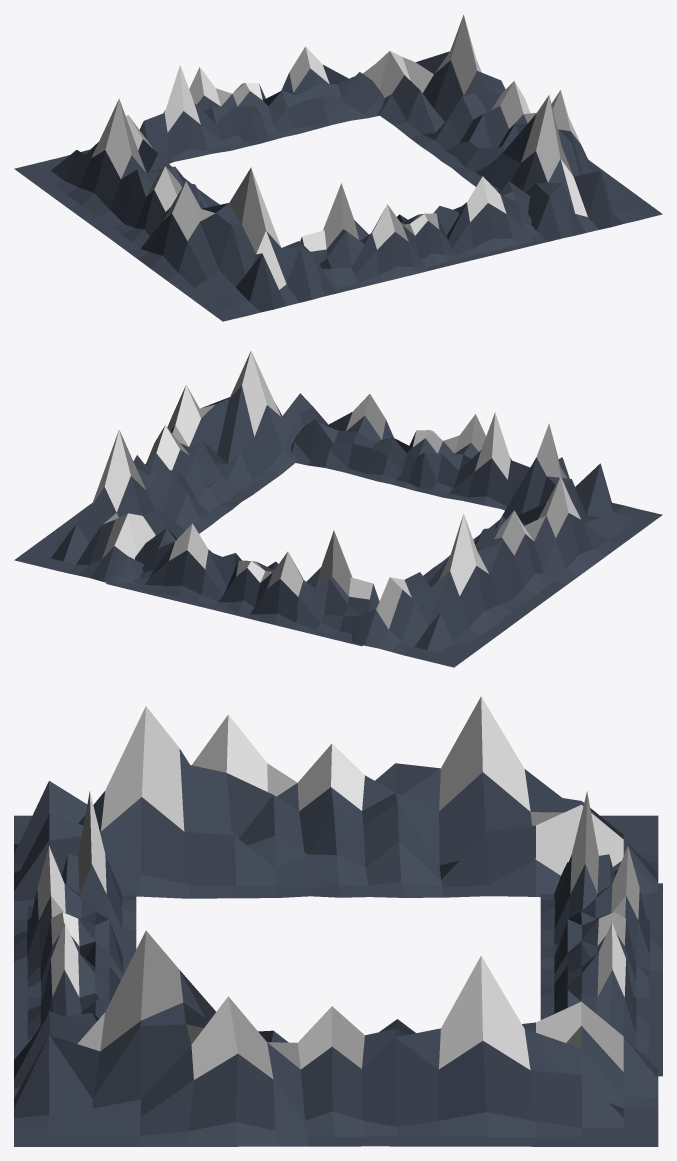
The model's file is lowpolymountains.glb.
The picture shows the model from 3 angles, top to bottom: view 1: azimuth 30°, elevation 25°; view 2: azimuth 150°, elevation 25°; view 3: azimuth 270°, elevation 25°; orthographic projection. The views are drawn at different scales.
Parts seen in each view (by area): view 1: Sahne_Plane, Sahne_Plane.001; view 2: Sahne_Plane, Sahne_Plane.001; view 3: Sahne_Plane, Sahne_Plane.001.
Part boxes in pixels (box(x1,y1,x2,y2)): Sahne_Plane: box(14, 15, 662, 321); Sahne_Plane.001: box(139, 46, 547, 293); Sahne_Plane: box(14, 350, 662, 667); Sahne_Plane.001: box(106, 394, 530, 646); Sahne_Plane: box(14, 696, 658, 1146); Sahne_Plane.001: box(14, 791, 662, 1076).
Size of the model in its own units: 57.97 by 13.36 by 48.
